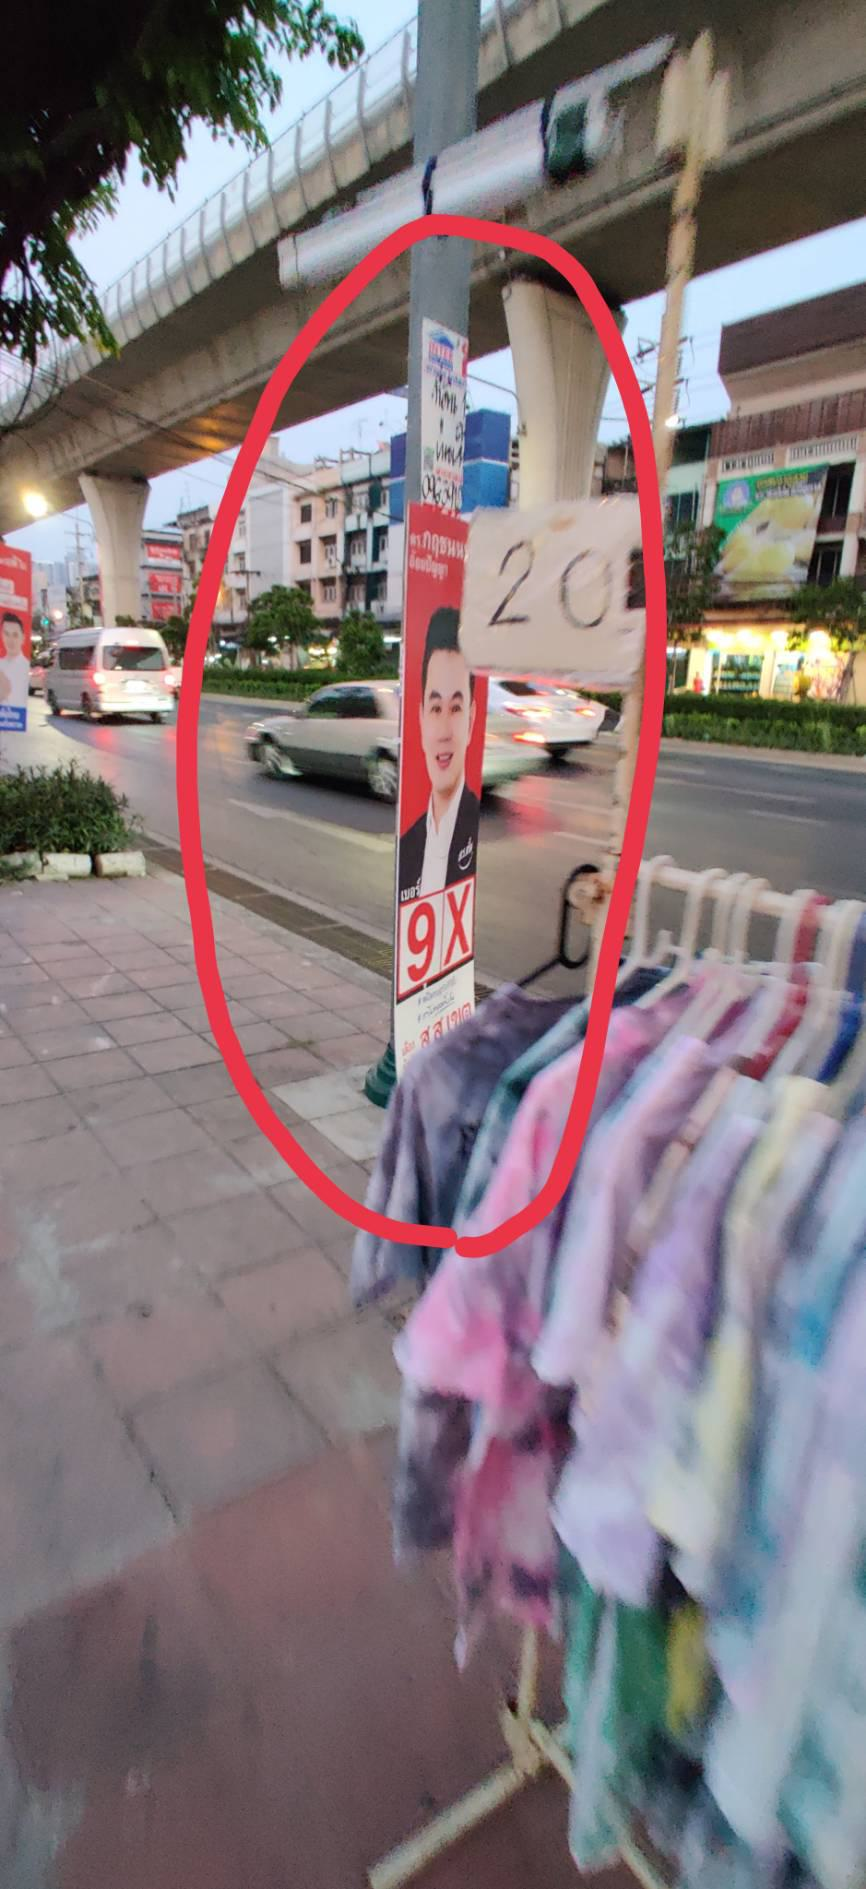Banner: (391, 500, 497, 1104)
